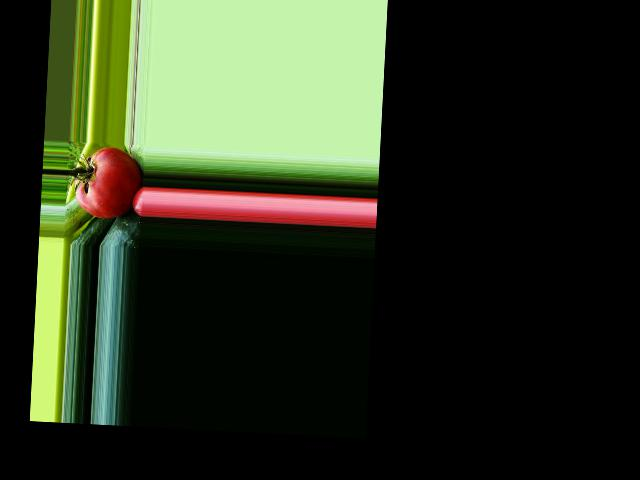tomato: (74, 145, 144, 220)
